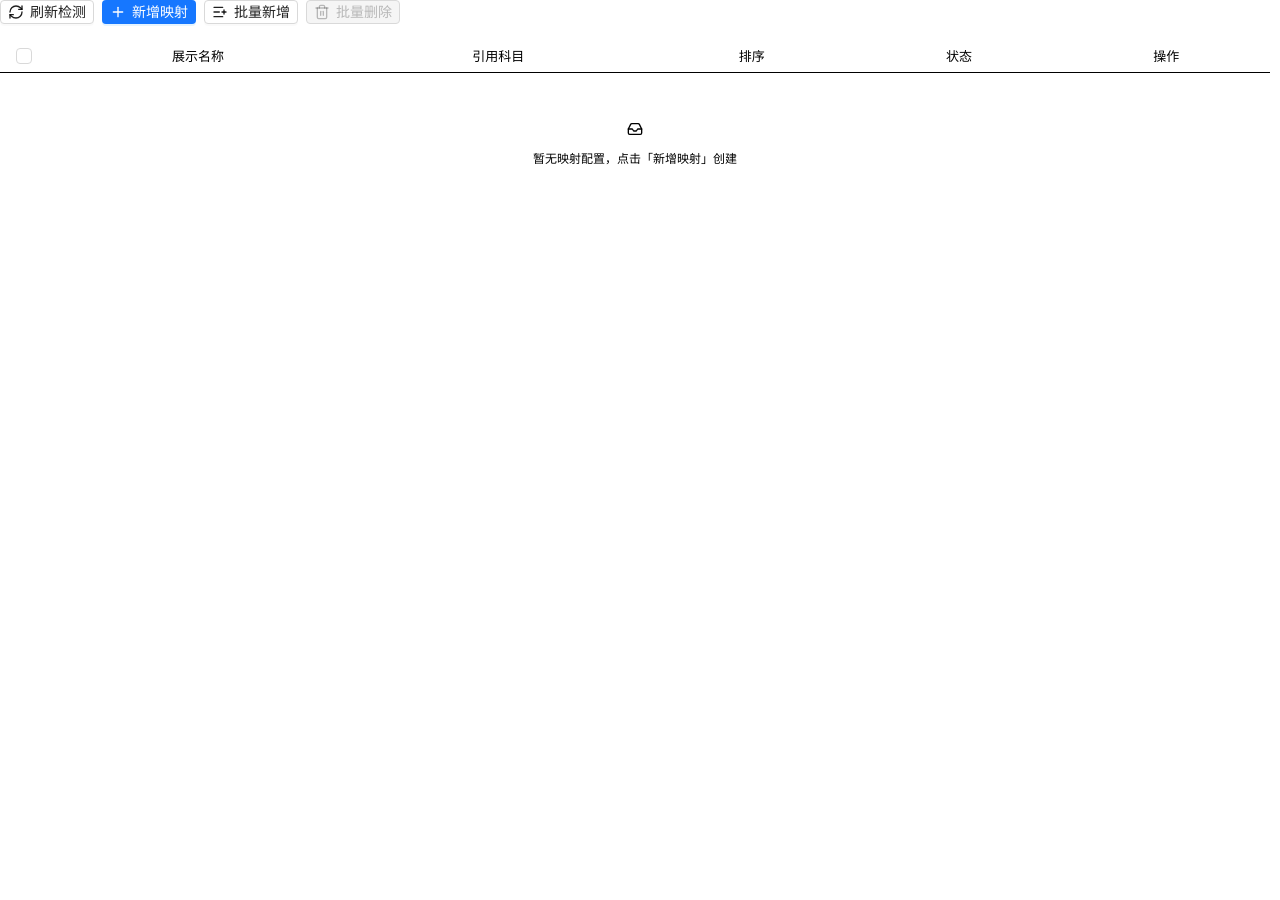
Test: ExpenseMappingPanel 新增映射统一编码 › 打开新增对话框后编码为只读自动值（EXP_ 数字序号），说明文字移入悬停提示
The image size is (1280, 900).
Click the button "新增映射" at (149, 12), box [102,0,196,24]
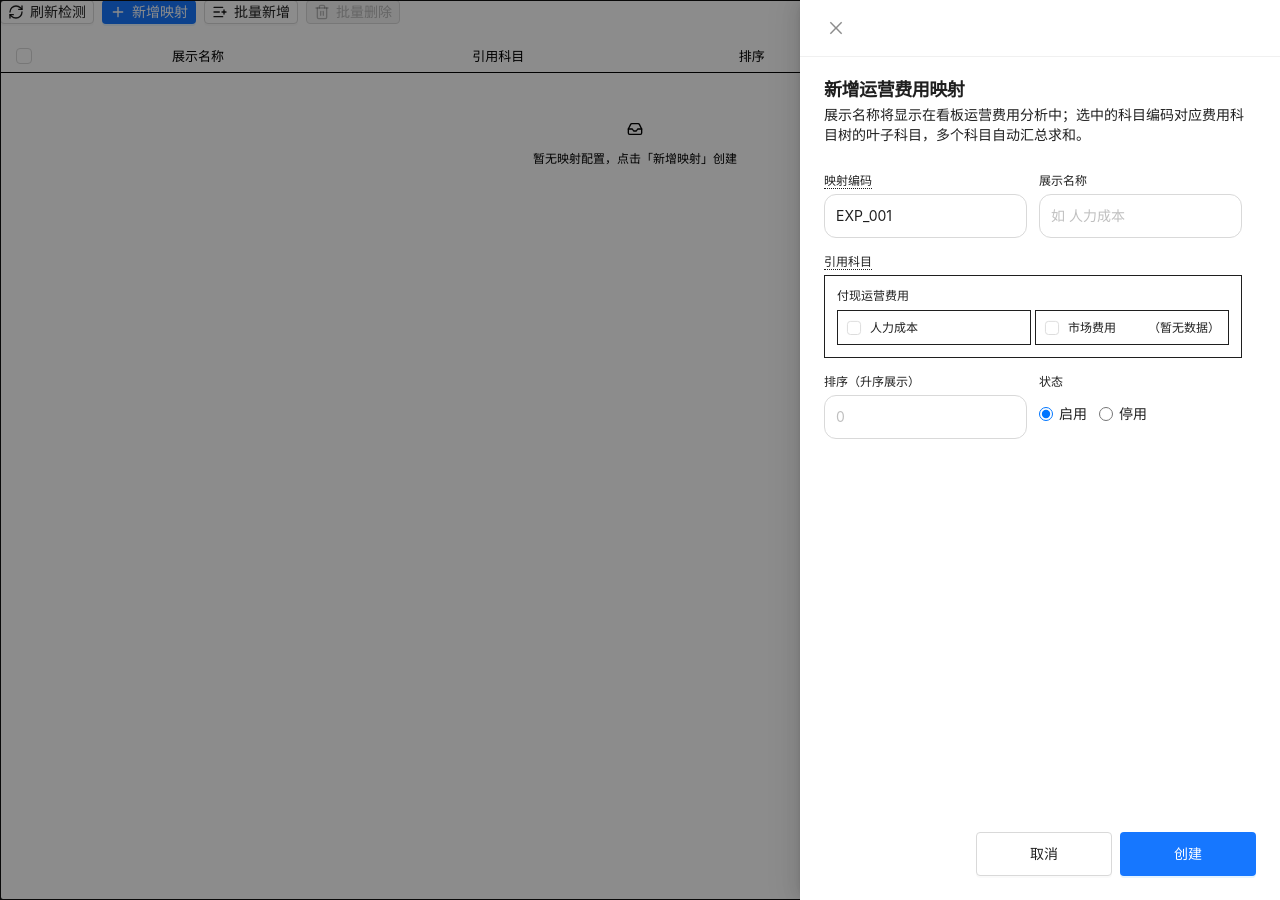
Result: the field showing "EXP_001" is shown at [824,194,1027,238]
Result: the text "映射编码" is shown at [824,173,872,188]
